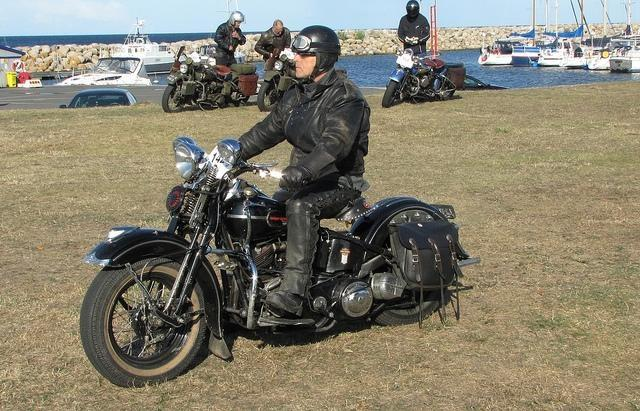car: (58, 88, 138, 108)
motorcycle: (80, 137, 488, 390), (162, 50, 258, 112), (381, 38, 458, 108), (256, 54, 347, 112)
